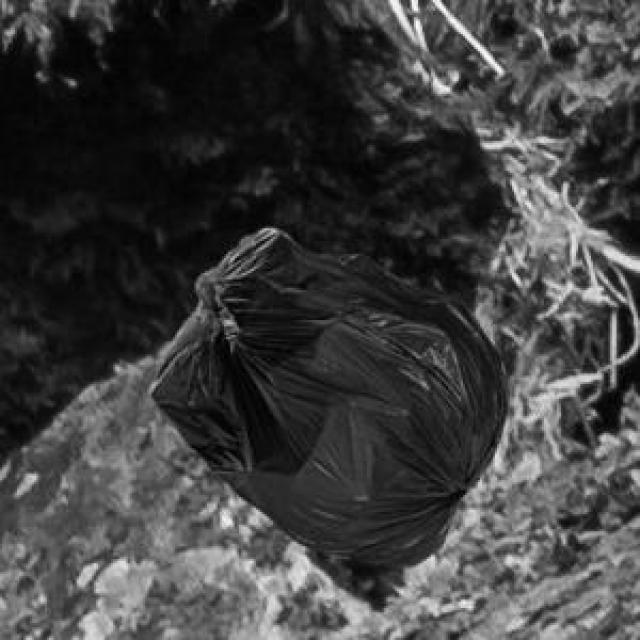miscellaneous trash: (145, 224, 506, 563)
